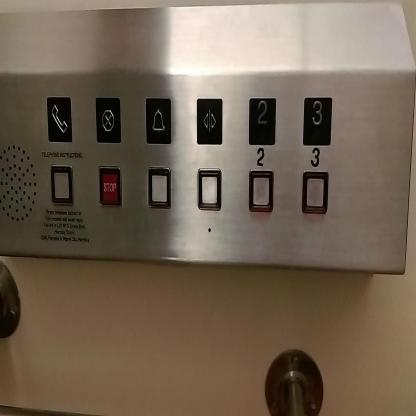2: (247, 96, 277, 146)
3: (302, 94, 332, 148)
alarm: (143, 96, 173, 145)
call: (44, 93, 74, 143)
empty: (49, 160, 75, 208), (146, 162, 172, 210), (196, 164, 222, 212), (248, 166, 274, 214), (302, 166, 328, 214)
open: (195, 97, 224, 146)
stop: (93, 94, 123, 144)
text_stop: (96, 162, 122, 210)
